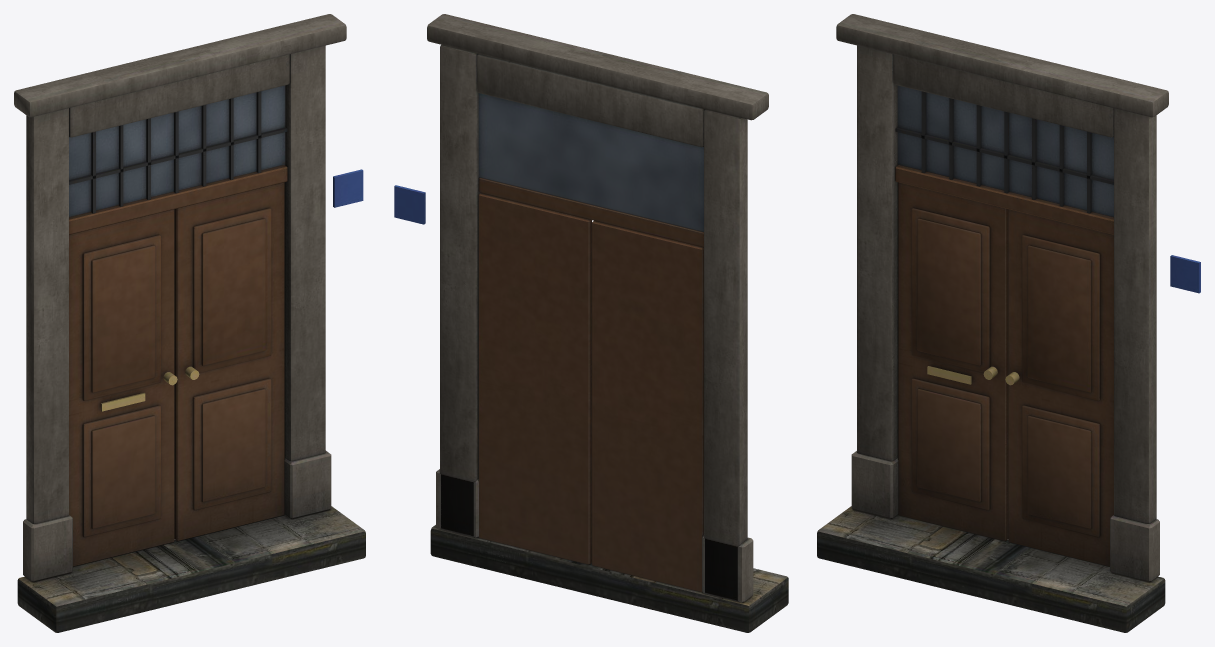
Rendered from door_town_brown.glb.
3 renders of one model, left to right at view 1: azimuth 30°, elevation 25°; view 2: azimuth 150°, elevation 25°; view 3: azimuth 330°, elevation 25°, orthographic. The views are drawn at different scales.
Parts seen in each view (by area): view 1: door_town_brown; view 2: door_town_brown; view 3: door_town_brown.
Boxes of the visible parts, x1,y1,x2,y2 form: door_town_brown: (14,14,365,632); door_town_brown: (394,14,788,632); door_town_brown: (817,14,1200,632).
Size of the model in its own units: 1.93 by 2.73 by 0.38.
Materials: 1 (1 with a texture image).
